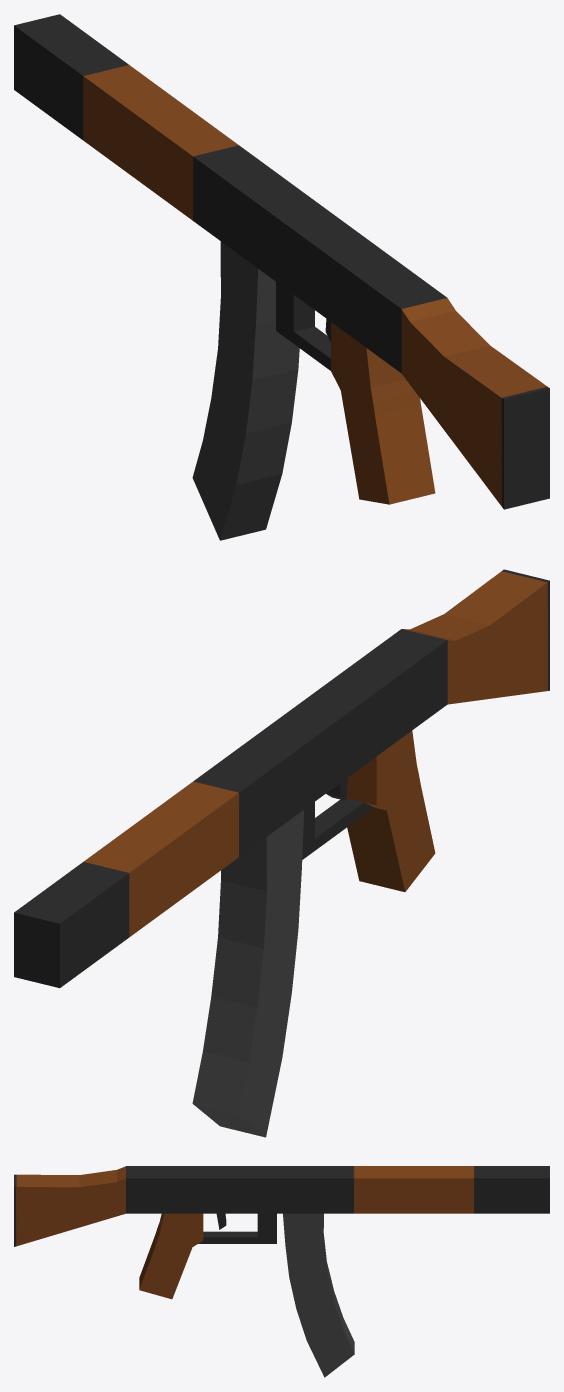
File: Fusil.fbx
The picture shows the model from 3 angles, top to bottom: view 1: azimuth 30°, elevation 25°; view 2: azimuth 150°, elevation 25°; view 3: azimuth 270°, elevation 25°; orthographic projection. The views are drawn at different scales.
Visible parts, largest first — view 1: Cubo; view 2: Cubo; view 3: Cubo.
Part boxes in pixels (<box>): Cubo: <box>14,14,549,540</box>; Cubo: <box>14,569,549,1137</box>; Cubo: <box>14,1166,549,1377</box>.
Size of the model in its own units: 58.47 by 443 by 1079.
